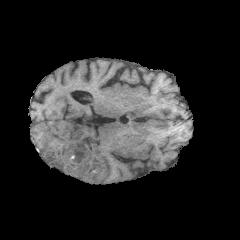glioma: (42, 130, 107, 181)
